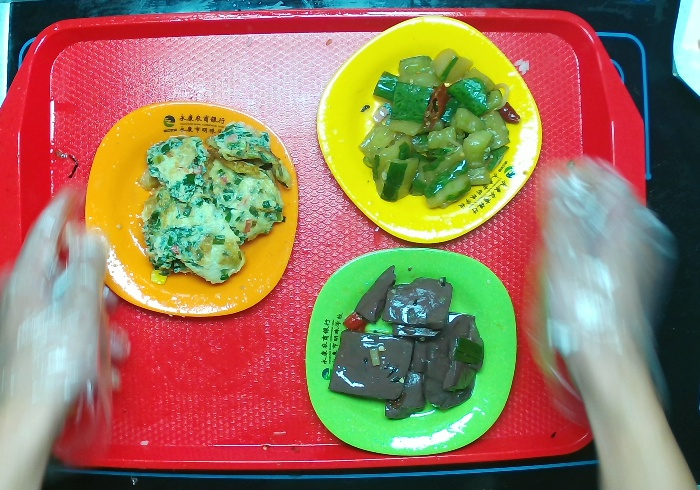YKMZ-Huang_Se_Fang_Die: (315, 14, 538, 242)
YKMZ-Ju_Se_Fang_Die: (82, 101, 301, 320)
YKMZ-Lv_Se_Fang_Die: (296, 237, 522, 465)
